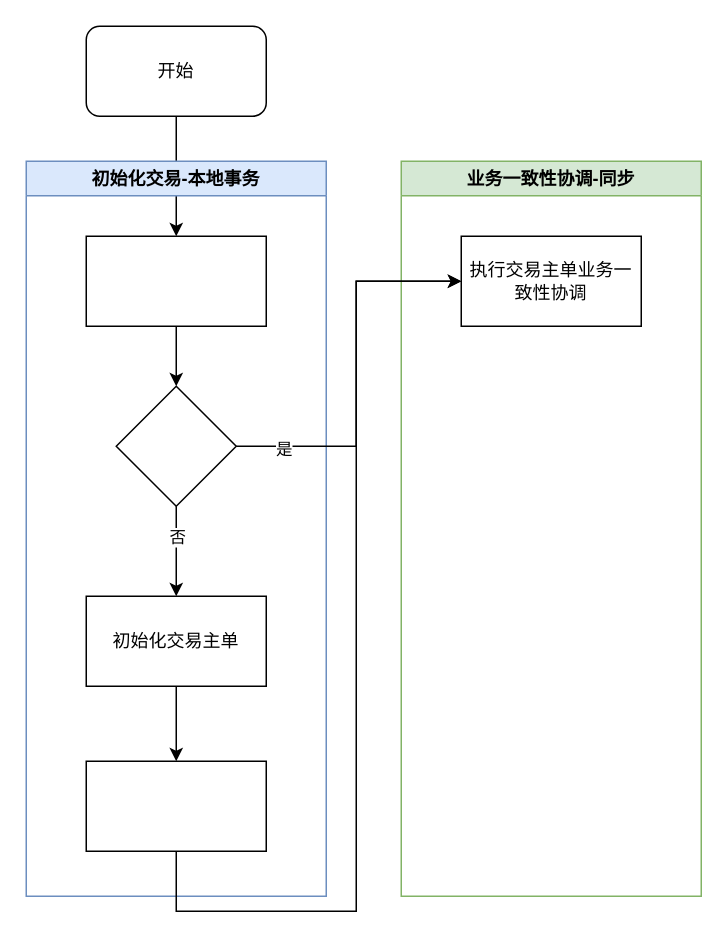
This 728x950 diagram has some shape labels left out. Each missing label, with the centre of its shape:
"初始化交易子单" belongs at (x=175, y=805).
"幂等检查" belongs at (x=175, y=280).
"是否已创建" belongs at (x=175, y=445).
